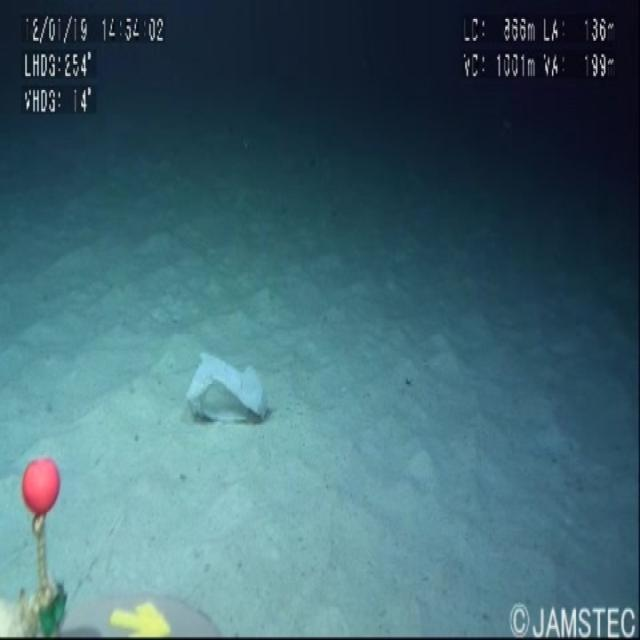Plastic: (173, 328, 277, 479)
